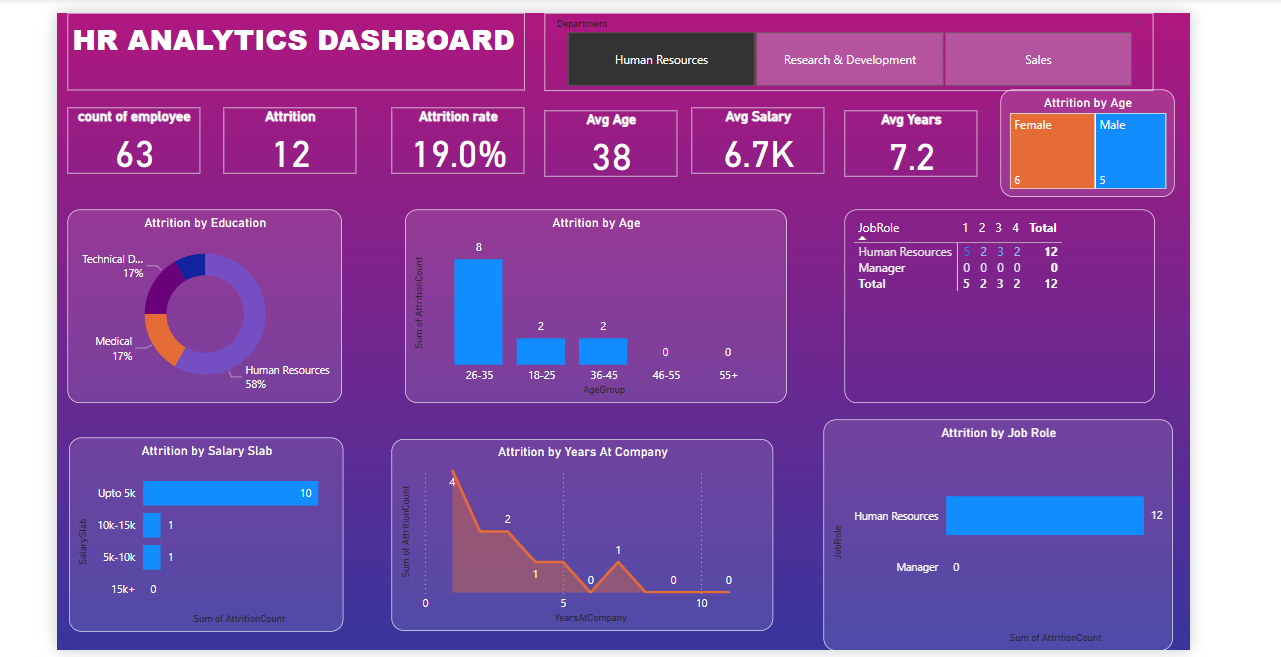

The dashboard page shown, as its layout file describes it:
{"tool":"powerbi","page":{"name":"Page 1","canvas":[1280,720],"ordinal":0},"visuals":[{"type":"card","title":"count of employee","fields":{"Values":["CountNonNull(HR_Analytics.EmpID)"]},"box":[12.2,107.3,149.9,74.9],"z":0},{"type":"card","title":"Attrition","fields":{"Values":["Sum(HR_Analytics.AttritionCount)"]},"box":[188.4,107.3,149.9,74.9],"z":1000},{"type":"card","title":"Attrition rate","fields":{"Values":["HR_Analytics.AttritionRate"]},"box":[378.7,107.3,149.9,74.9],"z":2000},{"type":"card","title":"Avg Age","fields":{"Values":["Avg(HR_Analytics.Age)"]},"box":[550.9,109.4,149.9,74.9],"z":3000},{"type":"card","title":"Avg Salary","fields":{"Values":["Avg(HR_Analytics.MonthlyIncome)"]},"box":[717,107.3,149.9,74.9],"z":4000},{"type":"card","title":"Avg Years","fields":{"Values":["Avg(HR_Analytics.YearsAtCompany)"]},"box":[889.1,109.4,149.9,74.9],"z":5000},{"type":"donutChart","title":"Attrition by Education","fields":{"Category":["HR_Analytics.EducationField"],"Y":["Sum(HR_Analytics.AttritionCount)"]},"box":[12.2,222.8,309.9,218.7],"z":6000},{"type":"columnChart","title":"Attrition by Age","fields":{"Category":["HR_Analytics.AgeGroup"],"Y":["Sum(HR_Analytics.AttritionCount)"]},"box":[392.9,222.8,431.4,218.7],"z":7000},{"type":"pivotTable","fields":{"Rows":["HR_Analytics.JobRole"],"Columns":["HR_Analytics.JobSatisfaction"],"Values":["Sum(HR_Analytics.AttritionCount)"]},"box":[889.1,222.8,350.4,218.7],"z":8000},{"type":"barChart","title":"Attrition by Salary Slab","fields":{"Category":["HR_Analytics.SalarySlab"],"Y":["Sum(HR_Analytics.AttritionCount)"]},"box":[12.7,480.4,310.2,219.5],"z":9000},{"type":"barChart","title":"Attrition by Job Role","fields":{"Y":["Sum(HR_Analytics.AttritionCount)"],"Category":["HR_Analytics.JobRole"]},"box":[866.8,459.7,394.9,261.3],"z":10000},{"type":"areaChart","title":"Attrition by Years At Company","fields":{"Category":["HR_Analytics.YearsAtCompany"],"Y":["Sum(HR_Analytics.AttritionCount)"]},"box":[378.7,482,431.4,216.7],"z":11000},{"type":"treemap","title":"Attrition by Age","fields":{"Group":["HR_Analytics.Gender"],"Values":["Sum(HR_Analytics.AttritionCount)"]},"box":[1065.3,87.1,196.5,121.5],"z":12000},{"type":"slicer","fields":{"Values":["HR_Analytics.Department"]},"box":[550.9,0,688.6,87.1],"z":13000},{"type":"textbox","box":[12.2,0,516.5,87.1],"z":14000}]}

Visuals, with their boxes on the page's 1280x720 design canvas (x1, y1, x2, y2). These are canvas units, not pixel positions in the 1281x657 screenshot, which may show the page scaled, cropped or inside an application window:
"count of employee" card: locate(12, 107, 162, 182)
"Attrition" card: locate(188, 107, 338, 182)
"Attrition rate" card: locate(379, 107, 529, 182)
"Avg Age" card: locate(551, 109, 701, 184)
"Avg Salary" card: locate(717, 107, 867, 182)
"Avg Years" card: locate(889, 109, 1039, 184)
"Attrition by Education" donutChart: locate(12, 223, 322, 442)
"Attrition by Age" columnChart: locate(393, 223, 824, 442)
pivotTable - HR_Analytics.JobRole x HR_Analytics.JobSatisfaction: locate(889, 223, 1240, 442)
"Attrition by Salary Slab" barChart: locate(13, 480, 323, 700)
"Attrition by Job Role" barChart: locate(867, 460, 1262, 721)
"Attrition by Years At Company" areaChart: locate(379, 482, 810, 699)
"Attrition by Age" treemap: locate(1065, 87, 1262, 209)
slicer - HR_Analytics.Department: locate(551, 0, 1240, 87)
textbox: locate(12, 0, 529, 87)
